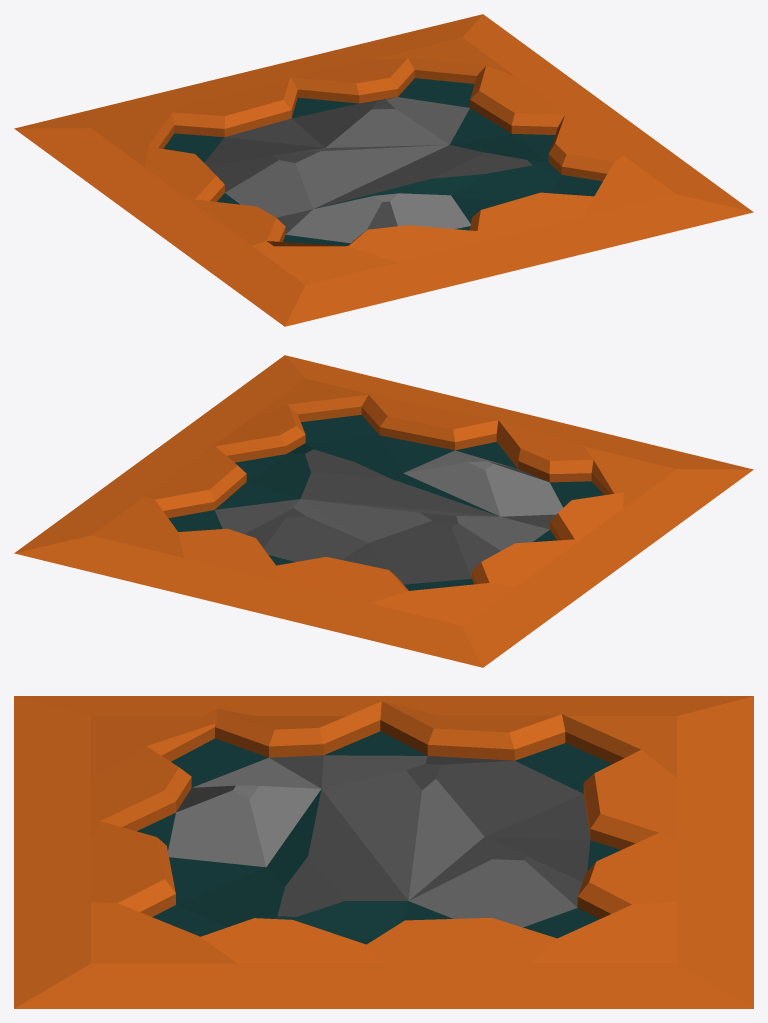
Rendered from BrokenDeck.fbx.
3 renders of one model, top to bottom at view 1: azimuth 30°, elevation 25°; view 2: azimuth 150°, elevation 25°; view 3: azimuth 270°, elevation 25°, orthographic. The views are drawn at different scales.
Parts seen in each view (by area): view 1: Cube; view 2: Cube; view 3: Cube.
Part boxes in pixels (bbox=[...]): Cube: bbox=[14, 14, 753, 326]; Cube: bbox=[14, 355, 753, 667]; Cube: bbox=[14, 696, 753, 1008].
Size of the model in its own units: 589 by 25.93 by 589.
